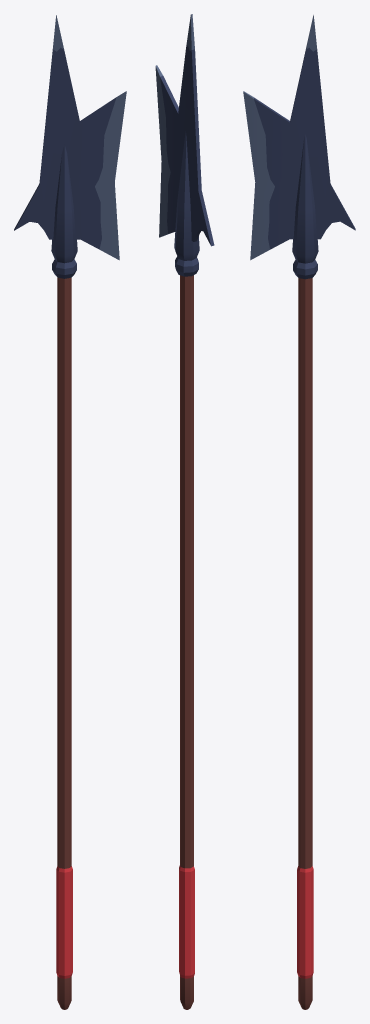
The model's file is Polearm_09.fbx.
3 renders of one model, left to right at view 1: azimuth 90°, elevation 25°; view 2: azimuth 210°, elevation 25°; view 3: azimuth 270°, elevation 25°, orthographic.
Parts seen in each view (by area): view 1: Polearm_09; view 2: Polearm_09; view 3: Polearm_09.
Part boxes in pixels (box(x1,y1,x2,y2)): Polearm_09: box(14, 15, 126, 1009); Polearm_09: box(155, 14, 214, 1009); Polearm_09: box(243, 15, 355, 1009).
Bounding box in the file's own units: 6.85 × 285 × 29.28.
